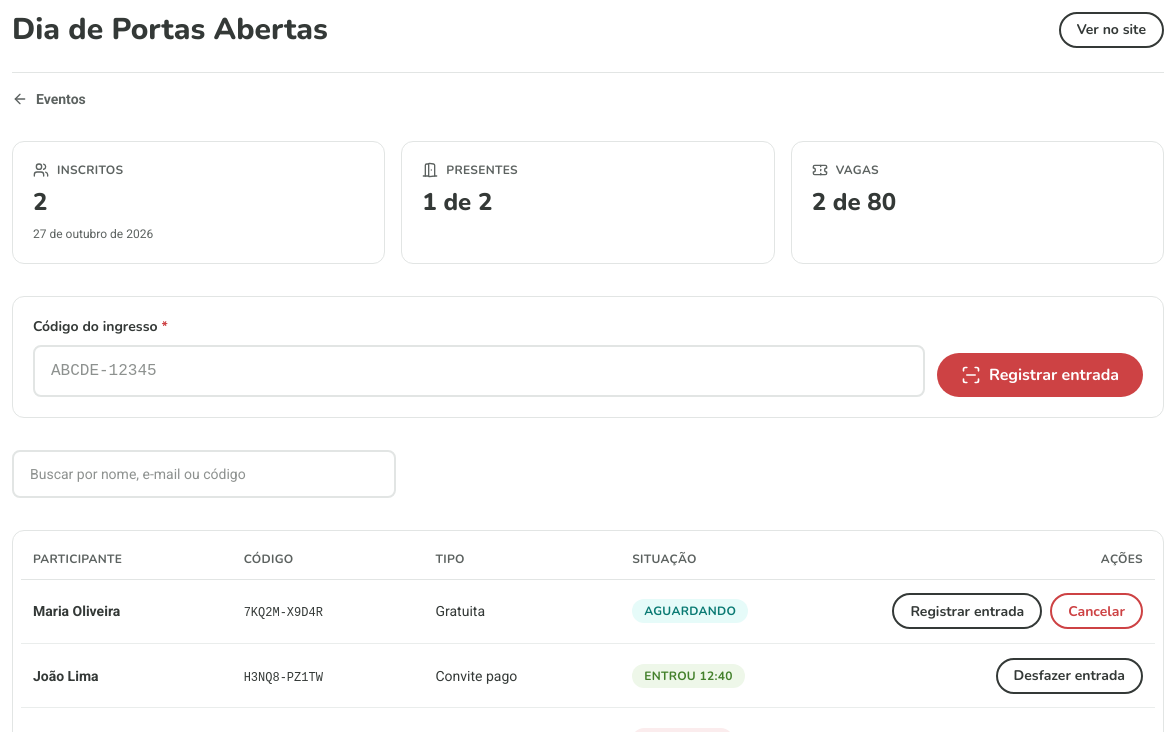
Test: lista de presença e check-in › filtra a lista pelo nome digitado na busca
The image size is (1164, 732).
Type "joão" into the search field labelled "Buscar por nome, e-mail ou código(opcional)" at coordinates (204, 474), box [12,450,396,498]
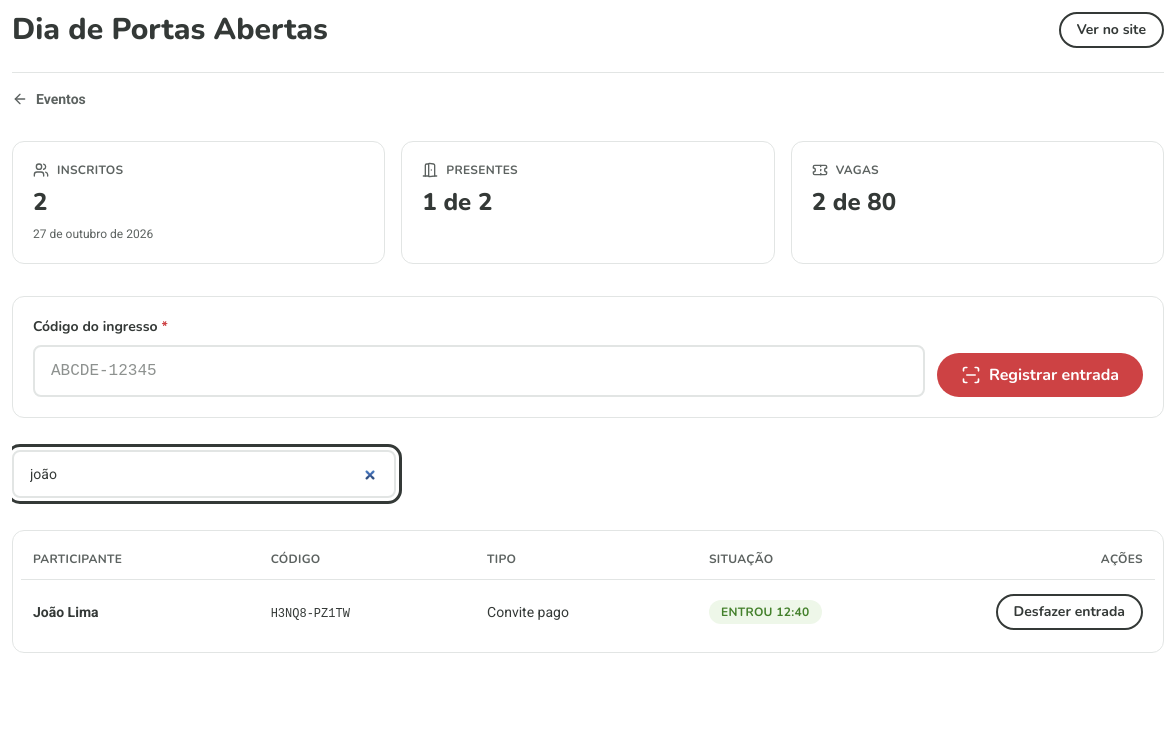
Expected: the text "João Lima" is shown, [21,580,259,644]
Expected: the text "Maria Oliveira" is not shown
